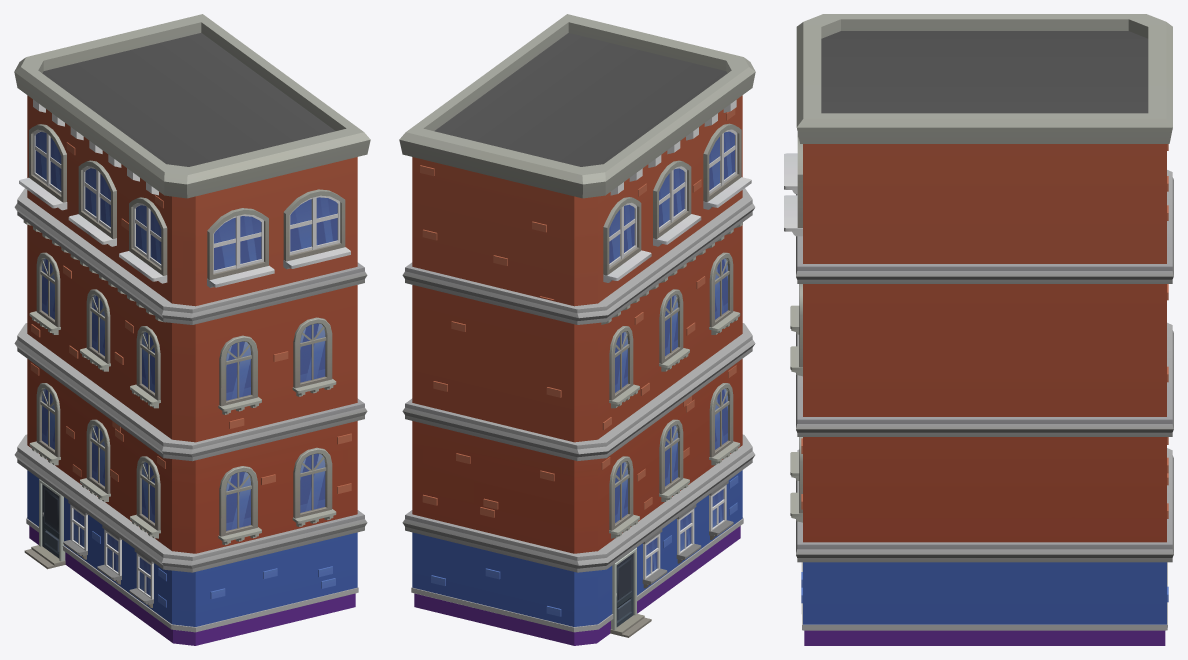
Rendered from Building_18_2_G.fbx.
The picture shows the model from 3 angles, left to right: view 1: azimuth 30°, elevation 25°; view 2: azimuth 150°, elevation 25°; view 3: azimuth 270°, elevation 25°; orthographic projection. The views are drawn at different scales.
Visible parts, largest first — view 1: Building_18_2_G; view 2: Building_18_2_G; view 3: Building_18_2_G.
Part boxes in pixels (x1,y1,x2,y2): Building_18_2_G: [14, 14, 370, 645]; Building_18_2_G: [399, 14, 755, 645]; Building_18_2_G: [784, 14, 1173, 645].
Bounding box in the file's own units: 719 × 1594 × 1059.
